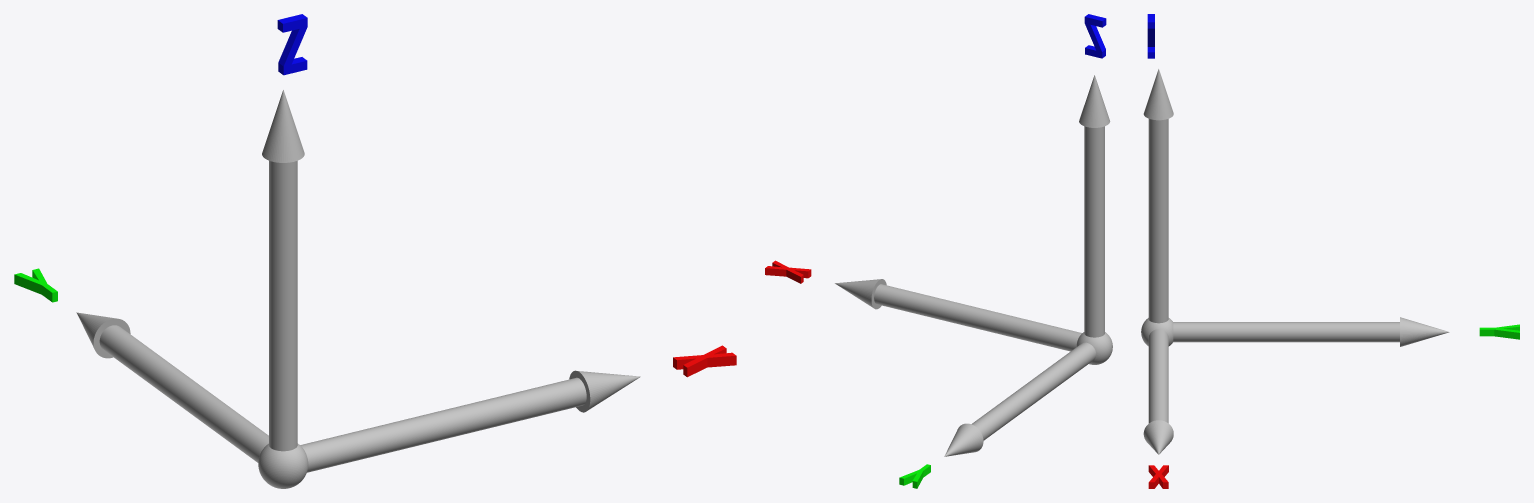
File: FullModel.dae
The picture shows the model from 3 angles, left to right: view 1: azimuth 30°, elevation 25°; view 2: azimuth 150°, elevation 25°; view 3: azimuth 270°, elevation 25°; orthographic projection. The views are drawn at different scales.
Parts seen in each view (by area): view 1: node3, node0, node2; view 2: node3, node0, node2, node1; view 3: node3, node1, node2.
Part boxes in pixels (x1,y1,x2,y2): node3: (76, 90, 640, 488); node0: (277, 14, 307, 75); node2: (673, 345, 736, 377); node3: (835, 75, 1112, 456); node0: (1084, 14, 1106, 58); node2: (765, 260, 811, 283); node1: (899, 464, 930, 488); node3: (1141, 69, 1449, 454); node1: (1479, 324, 1519, 339); node2: (1148, 465, 1168, 488).
Size of the model in its own units: 0.2407 by 0.2397 by 0.2314.
